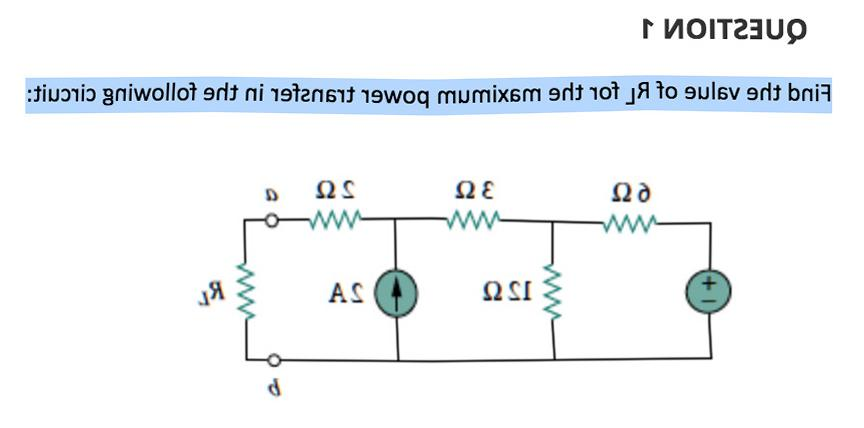Battery: (664, 251, 757, 336)
